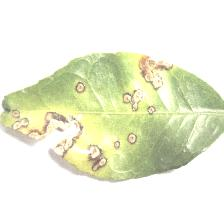canker: (5, 47, 177, 178)
